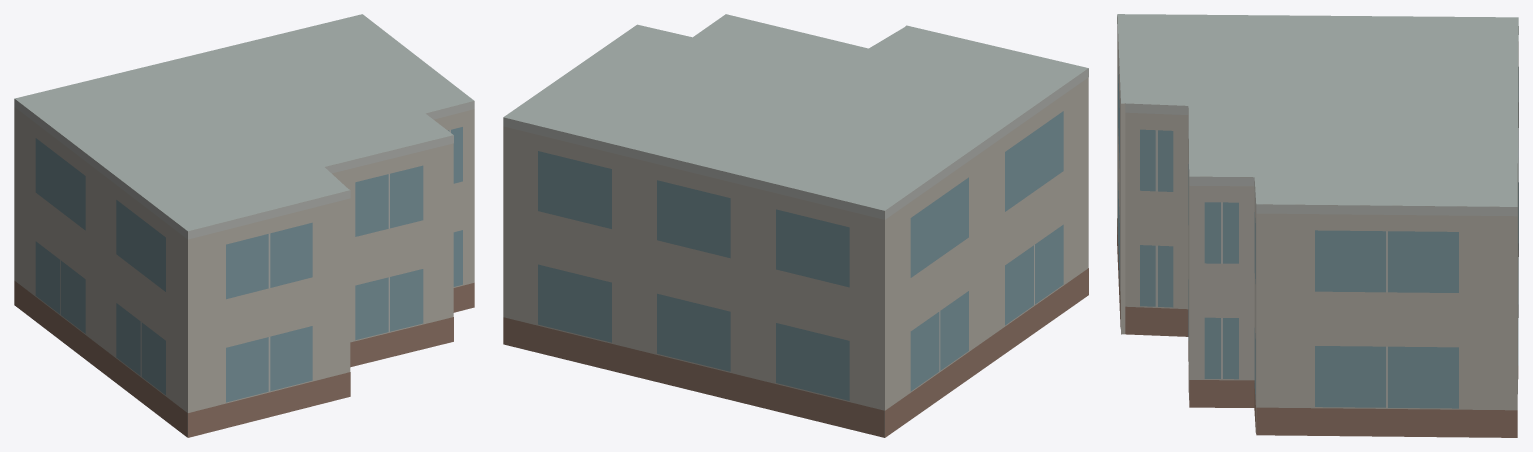
Rendered from survey-upis-32520887.glb.
3 views of the same model, side by side, from view 1: azimuth 30°, elevation 25°; view 2: azimuth 150°, elevation 25°; view 3: azimuth 270°, elevation 25° (orthographic). The views are drawn at different scales.
Parts seen in each view (by area): view 1: survey-upis-32520887.tmp; view 2: survey-upis-32520887.tmp; view 3: survey-upis-32520887.tmp.
Boxes of the visible parts, box(x1,y1,x2,y2) form: survey-upis-32520887.tmp: box(14, 14, 474, 437); survey-upis-32520887.tmp: box(503, 14, 1088, 437); survey-upis-32520887.tmp: box(1117, 14, 1518, 437).
Size of the model in its own units: 10.94 by 6.1 by 9.62.
